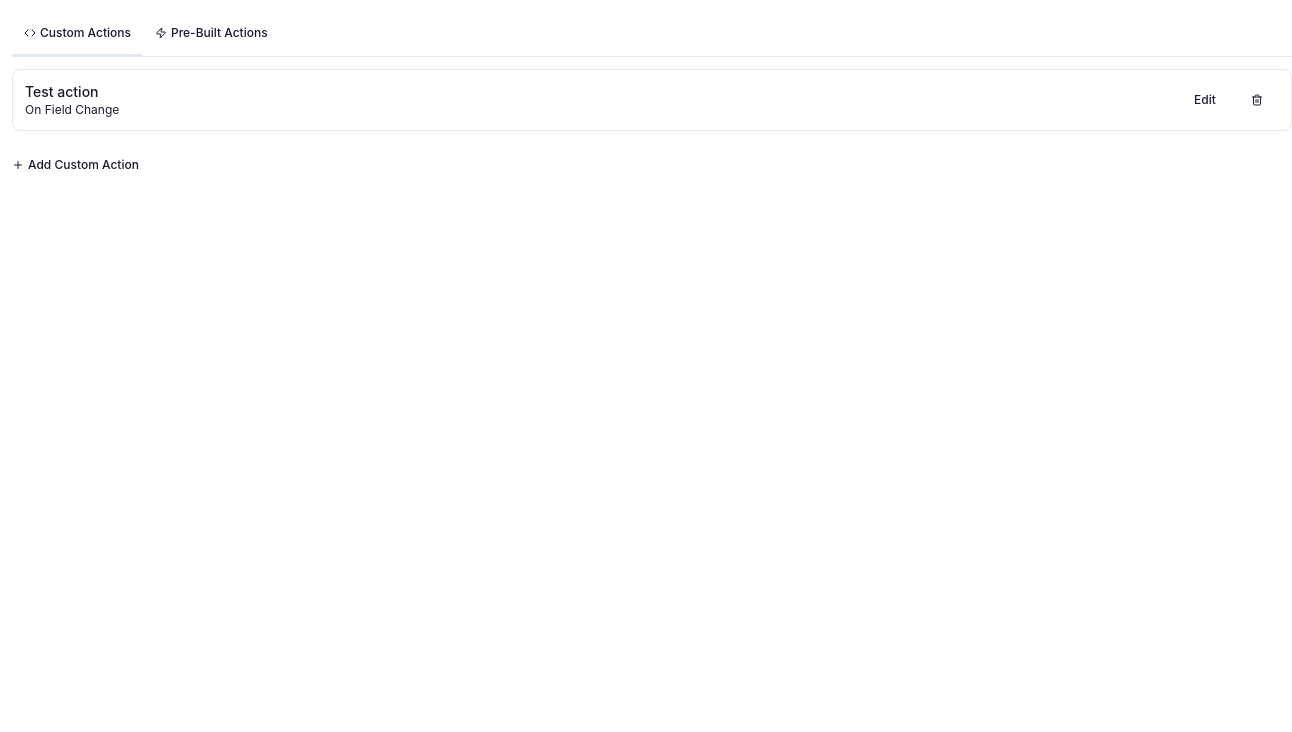
Test: ActionEditor › prohibited construct warnings › displays inline warnings for prohibited constructs in code
Click the button "Edit": [1205, 100] box [1183, 78, 1227, 122]
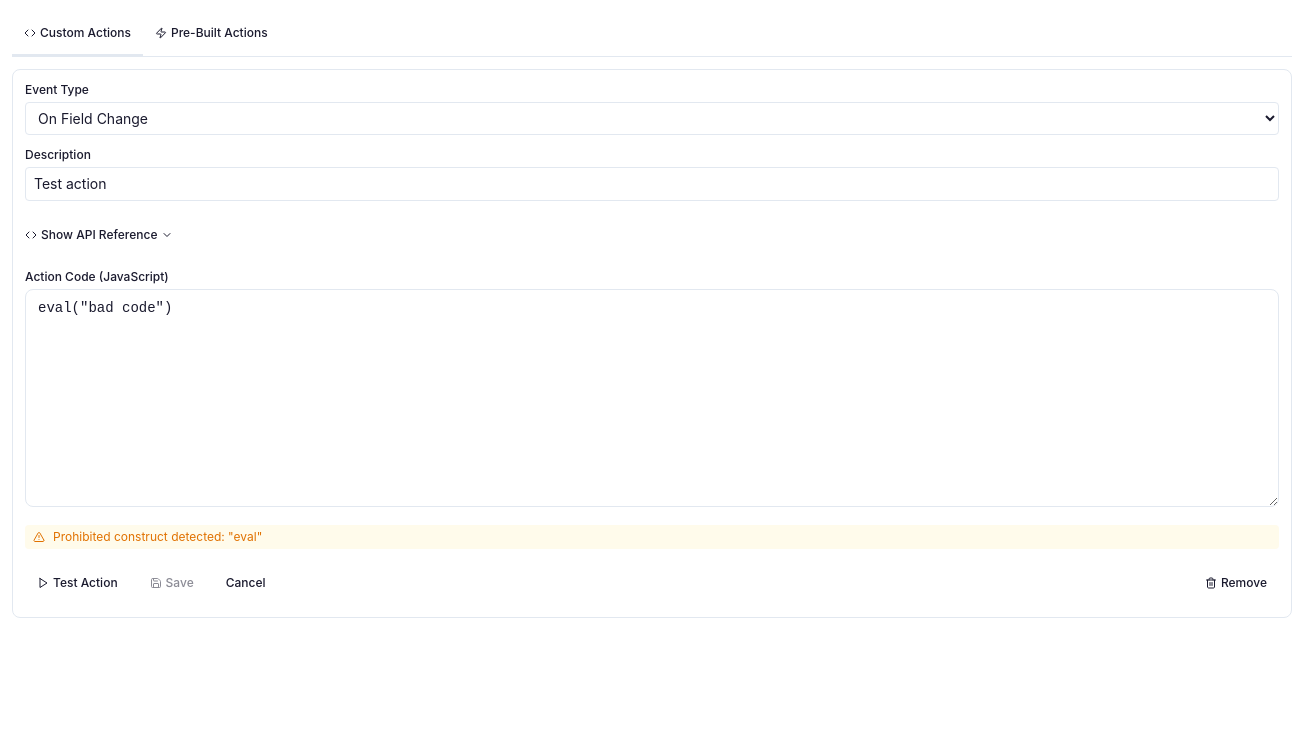
Now the text "Prohibited construct detected: \"eval\"" is shown, box [53, 529, 262, 545]
